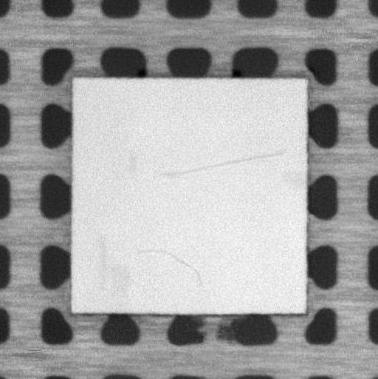DIE_CRACK: (159, 150, 288, 176), (139, 247, 201, 283)
